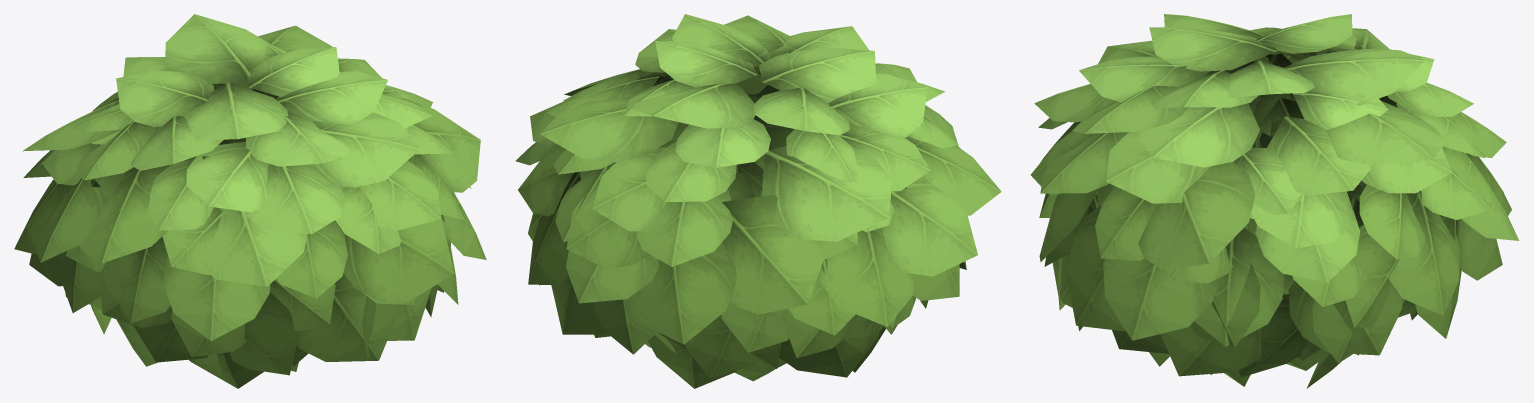
The picture shows the model from 3 angles, left to right: view 1: azimuth 30°, elevation 25°; view 2: azimuth 150°, elevation 25°; view 3: azimuth 270°, elevation 25°; orthographic projection. The views are drawn at different scales.
Parts seen in each view (by area): view 1: grid_2_leaves_LOD0; view 2: grid_2_leaves_LOD0; view 3: grid_2_leaves_LOD0.
Boxes of the visible parts, x1=… form: grid_2_leaves_LOD0: x1=14, y1=14, x2=486, y2=388; grid_2_leaves_LOD0: x1=515, y1=14, x2=1001, y2=388; grid_2_leaves_LOD0: x1=1031, y1=14, x2=1519, y2=388.
Size of what is drawn, in the model's own units: 1.45 by 0.9437 by 1.36.
1 material, 1 textured.
